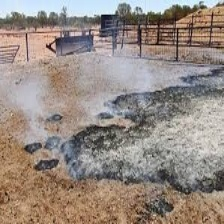smoke: (14, 73, 50, 131), (102, 54, 146, 90)
